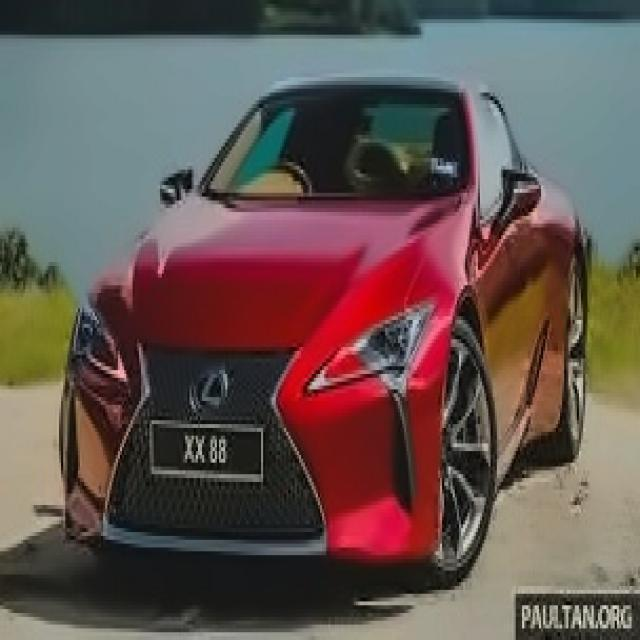License_Plate: (147, 421, 268, 493)
car: (72, 54, 597, 627)
